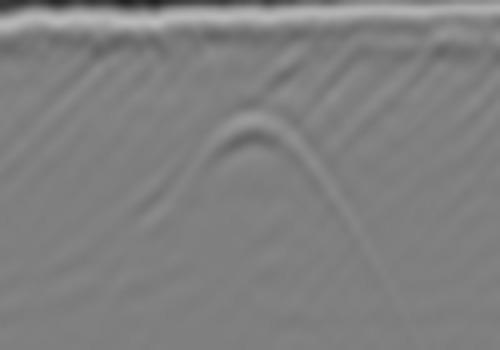hyperbola: (186, 106, 344, 213)
